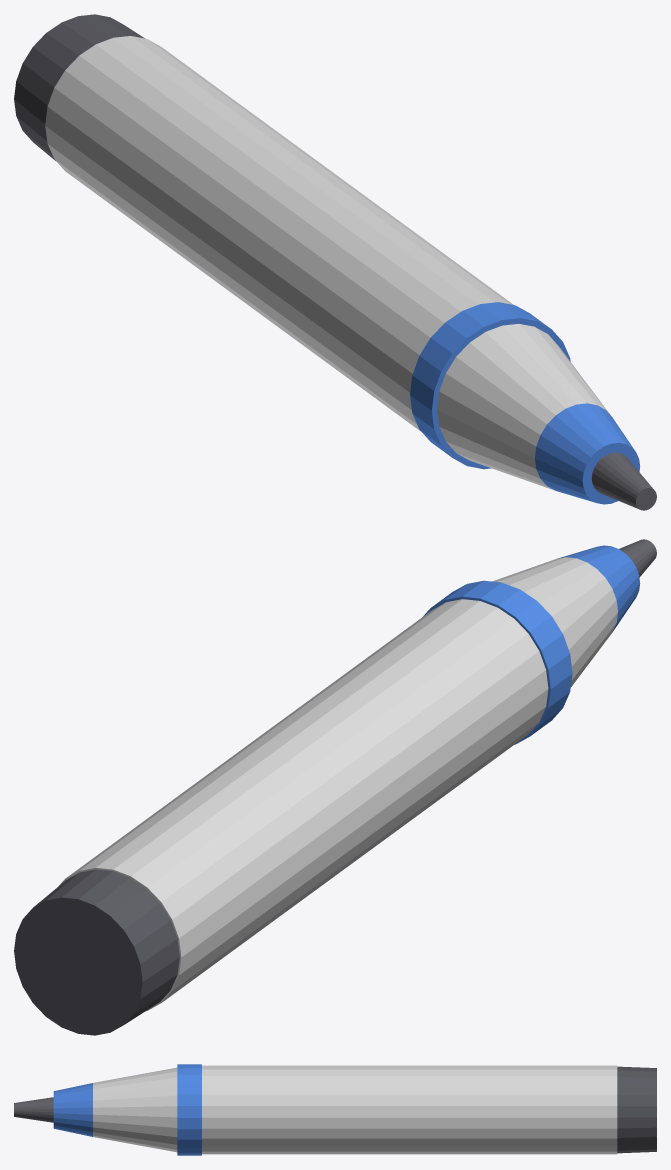
The model's file is gen_fitted.glb.
3 renders of one model, top to bottom at view 1: azimuth 30°, elevation 25°; view 2: azimuth 150°, elevation 25°; view 3: azimuth 270°, elevation 25°, orthographic. The views are drawn at different scales.
Visible parts, largest first — view 1: Main_Barrel, Grip_Taper, Nib_Holder, Collar_Ring, End_Plug, Felt_Tip; view 2: Main_Barrel, End_Plug, Grip_Taper, Collar_Ring, Nib_Holder, Felt_Tip; view 3: Main_Barrel, Grip_Taper, End_Plug, Collar_Ring, Nib_Holder, Felt_Tip.
Boxes of the visible parts, x1,y1,x2,y2 form: Main_Barrel: (45,36,513,431); Grip_Taper: (437,324,610,490); Nib_Holder: (535,403,640,504); Collar_Ring: (410,302,570,469); End_Plug: (14,14,144,160); Felt_Tip: (591,452,656,510); Main_Barrel: (58,599,548,1011); End_Plug: (14,869,179,1035); Grip_Taper: (492,557,617,687); Collar_Ring: (423,580,572,744); Nib_Holder: (558,545,640,631); Felt_Tip: (619,539,656,577); Main_Barrel: (202,1065,617,1154); Grip_Taper: (93,1067,177,1152); End_Plug: (617,1066,656,1153); Collar_Ring: (177,1064,201,1155); Nib_Holder: (53,1083,92,1136); Felt_Tip: (14,1097,53,1122).
Bounding box in the file's own units: 0.0186 × 0.0186 × 0.13.
